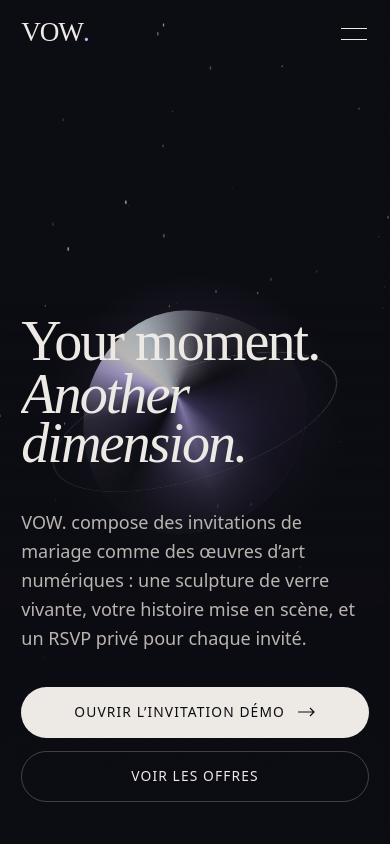
navigation › mobile menu toggles and exposes its state
Click the button named "Ouvrir le menu" at (354, 34), box [330,11,377,57]
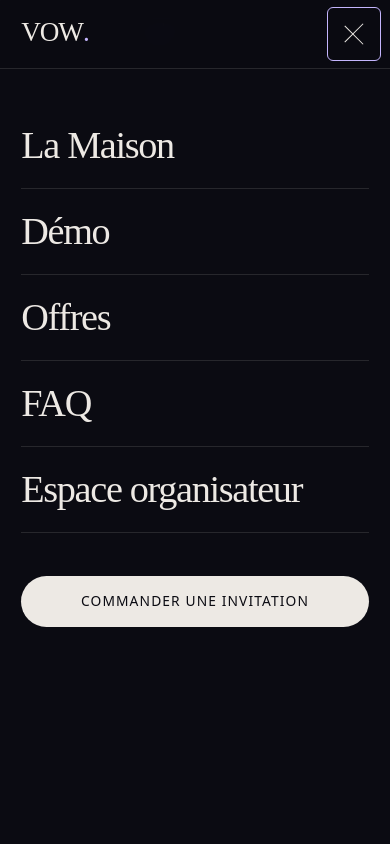
Check: the button named "Fermer le menu" is expanded, box [330,11,377,57]
Press Escape
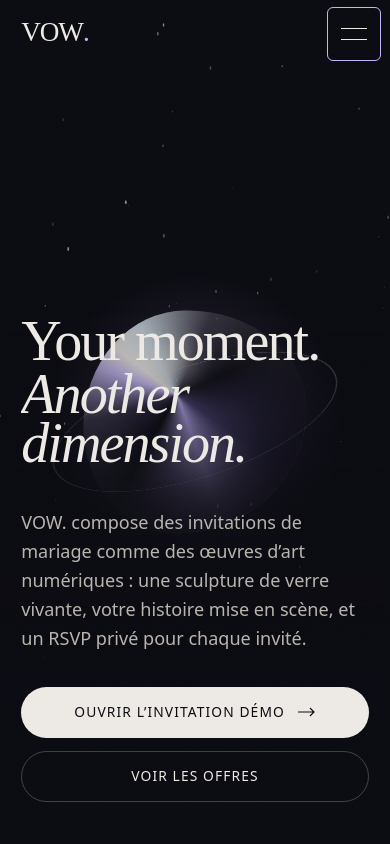
Check: the button named "Ouvrir le menu" is collapsed, box [330,11,377,57]
